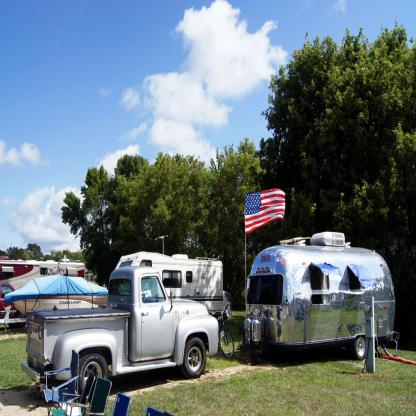Car: (20, 262, 219, 396), (244, 226, 402, 360), (112, 236, 227, 320), (0, 282, 25, 329)
Truck: (24, 257, 234, 397), (0, 258, 86, 335)
